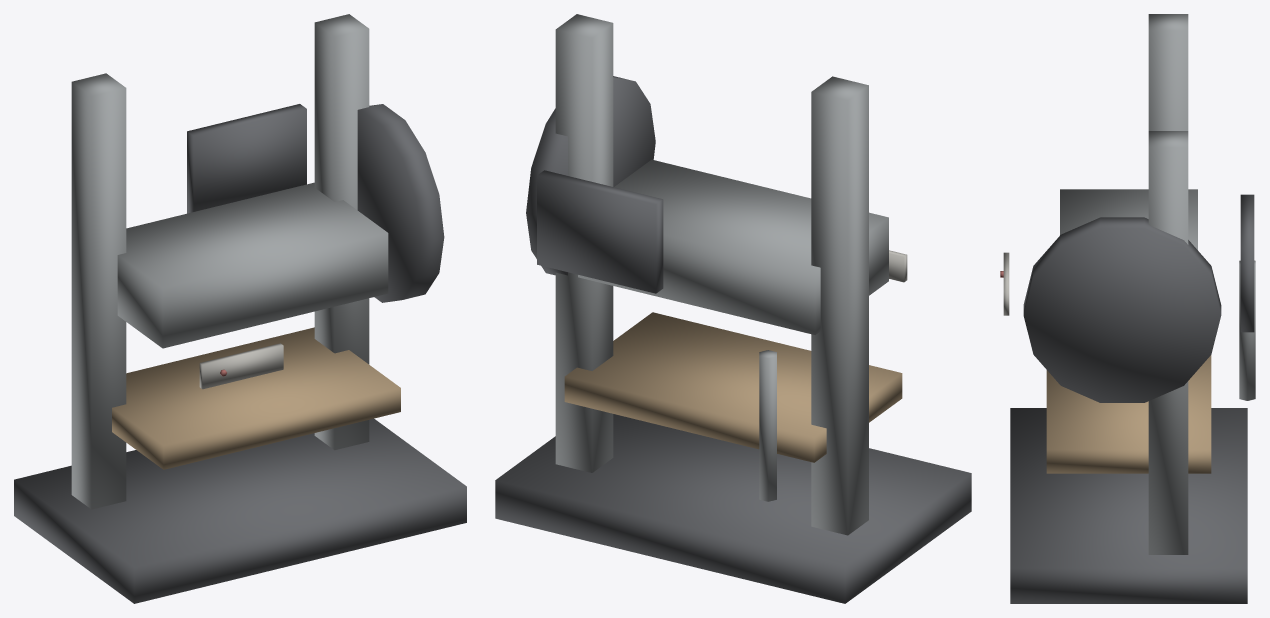
The model's file is letterpress_silhouette__service.glb.
The picture shows the model from 3 angles, left to right: view 1: azimuth 30°, elevation 25°; view 2: azimuth 150°, elevation 25°; view 3: azimuth 270°, elevation 25°; orthographic projection. The views are drawn at different scales.
Parts seen in each view (by area): view 1: world; view 2: world; view 3: world.
Part boxes in pixels (x1,y1,x2,y2): world: (14,14,466,603); world: (495,14,971,603); world: (1000,14,1255,603).
Size of the model in its own units: 1.15 by 1.49 by 0.7759.
